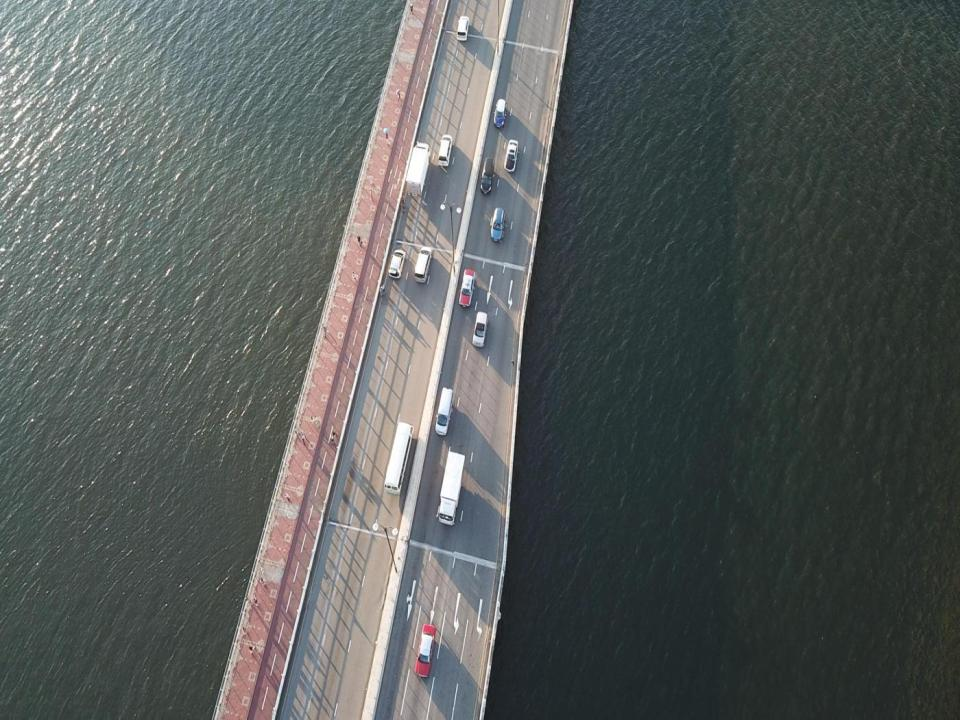bus: (384, 421, 413, 495)
car: (415, 623, 436, 677), (459, 269, 475, 308), (471, 312, 488, 347), (388, 248, 406, 279), (491, 208, 505, 242), (493, 99, 507, 129), (505, 140, 518, 172), (457, 15, 468, 43)
truck: (438, 452, 466, 526), (405, 140, 430, 196)
van: (436, 386, 453, 437), (414, 247, 432, 283), (481, 157, 494, 194), (438, 134, 453, 166)
